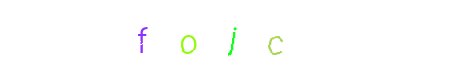C: (192, 0, 272, 80)
F: (102, 0, 182, 80)
J: (185, 0, 265, 80)
O: (184, 0, 264, 80)
